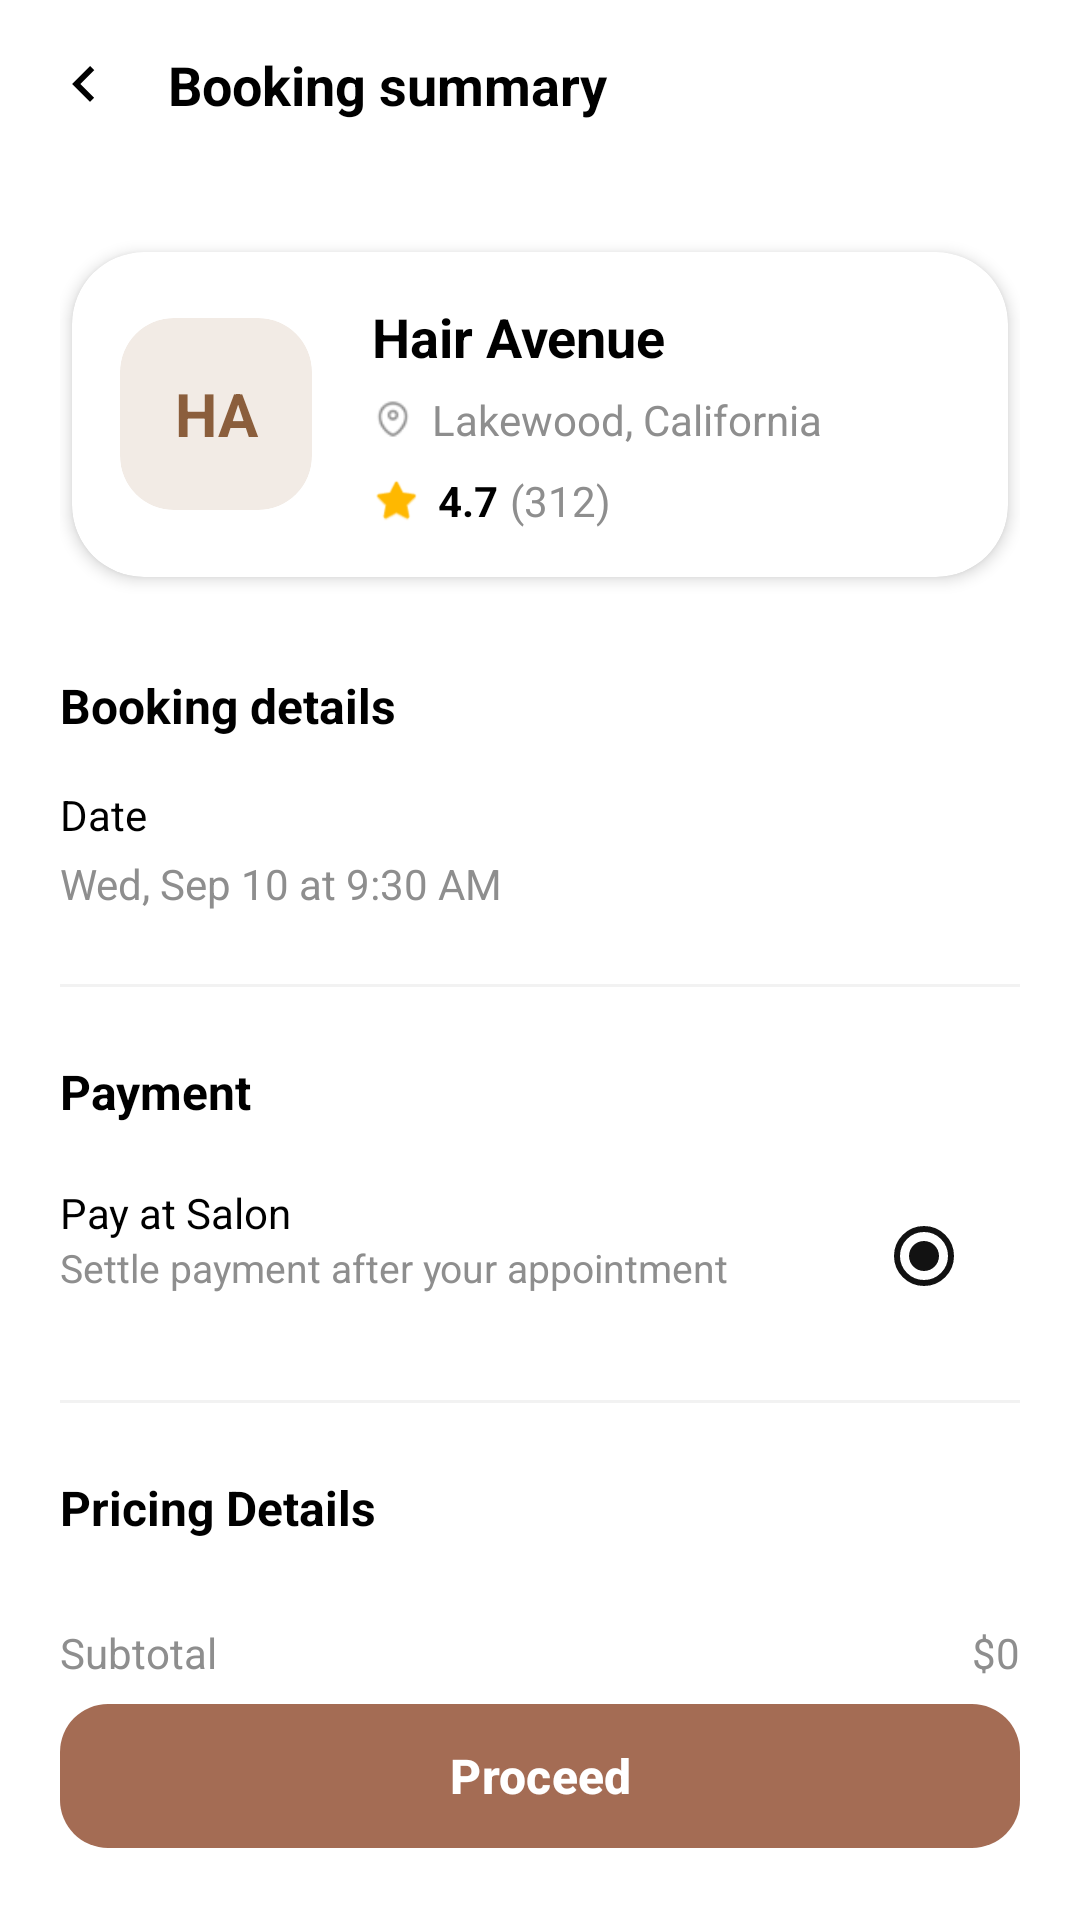

Screen size 1080*1920. Icon name, then its center in pixels as [x,y]:
back: [83,84]
location: [393,419]
star on: [396,500]
